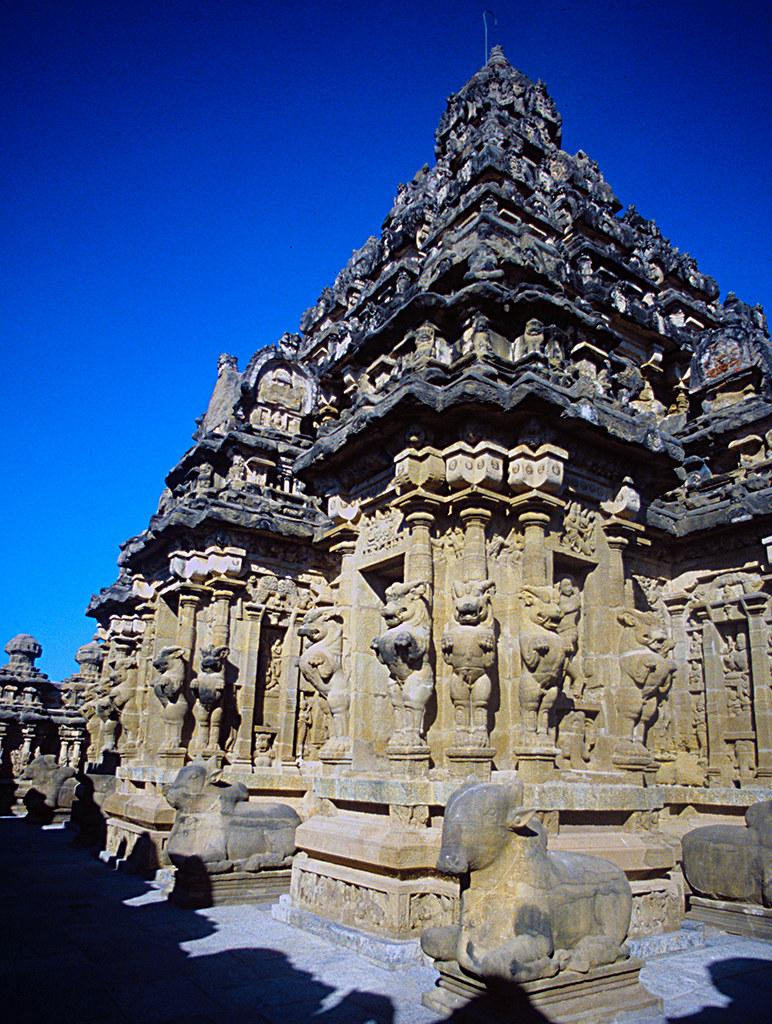temple: (4, 26, 771, 969)
